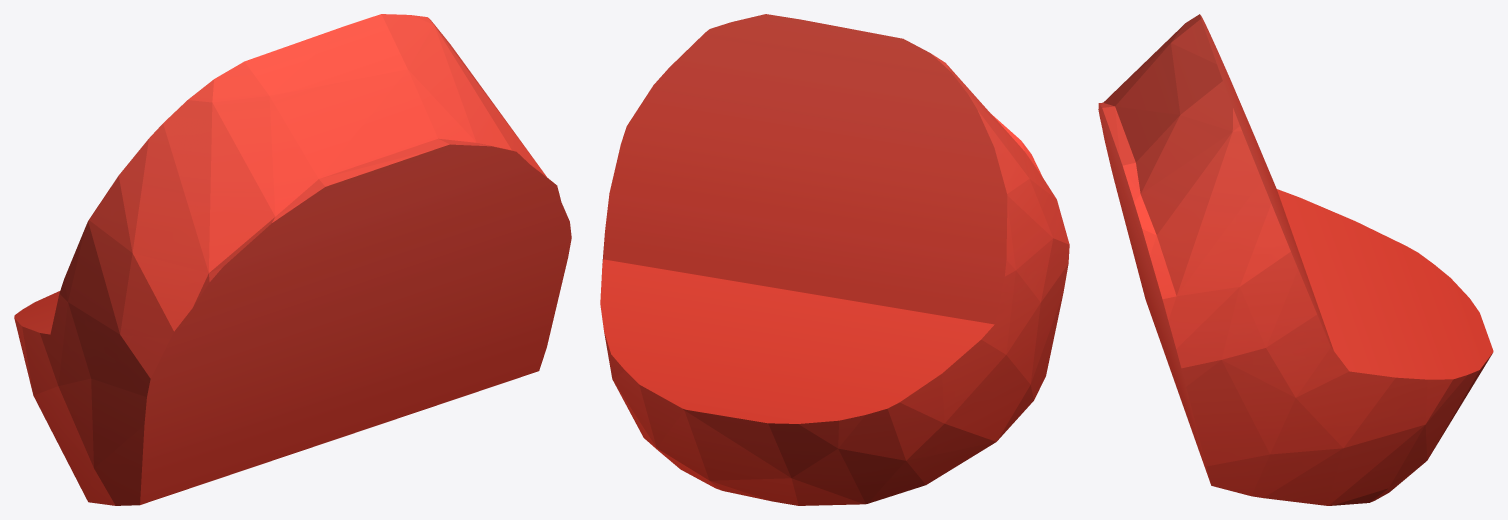
The model's file is HeartPart_3.fbx.
The picture shows the model from 3 angles, left to right: view 1: azimuth 30°, elevation 25°; view 2: azimuth 150°, elevation 25°; view 3: azimuth 270°, elevation 25°; orthographic projection. The views are drawn at different scales.
Visible parts, largest first — view 1: HeartPart_3; view 2: HeartPart_3; view 3: HeartPart_3.
Boxes of the visible parts, <box> form: HeartPart_3: <box>14,14,571,505</box>; HeartPart_3: <box>600,14,1069,505</box>; HeartPart_3: <box>1098,14,1493,505</box>.
Size of the model in its own units: 55.13 by 53.05 by 45.52.
1 material, 1 textured.
